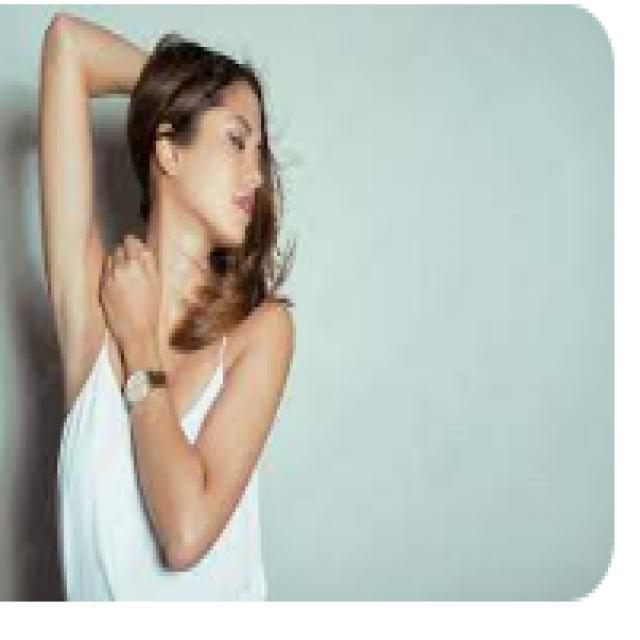Watch: (122, 364, 169, 406)
